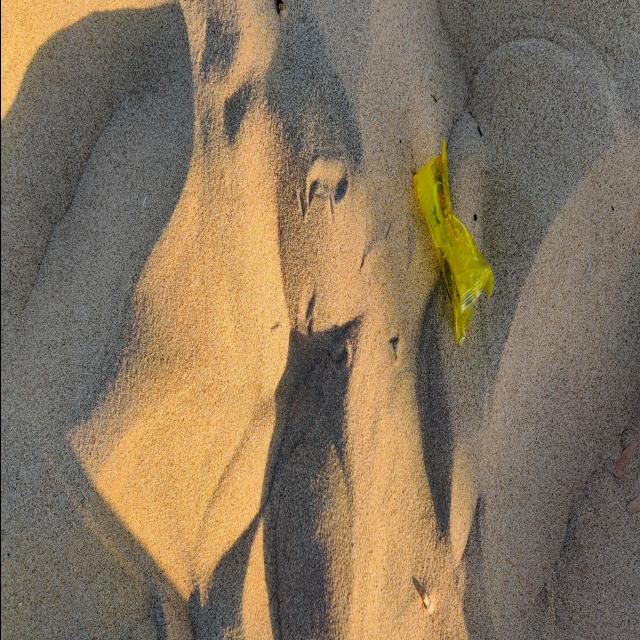Other plastic bottle: (421, 592, 433, 614)
Plastic film: (412, 139, 493, 343)
